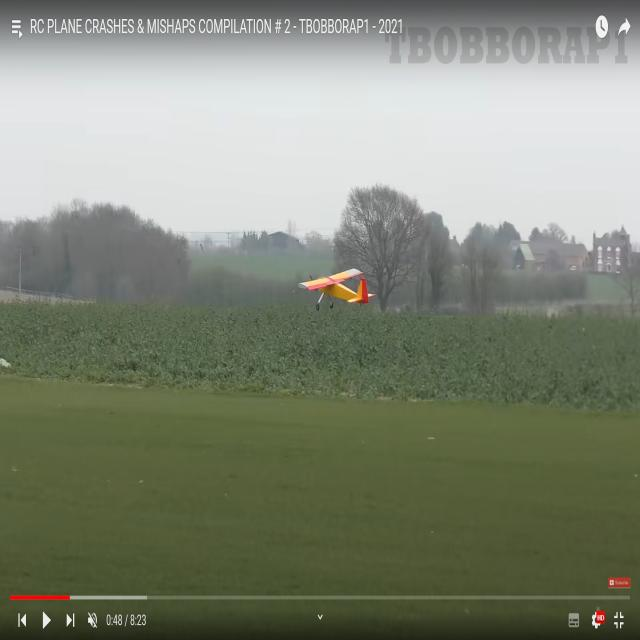iha: (329, 266, 344, 311)
